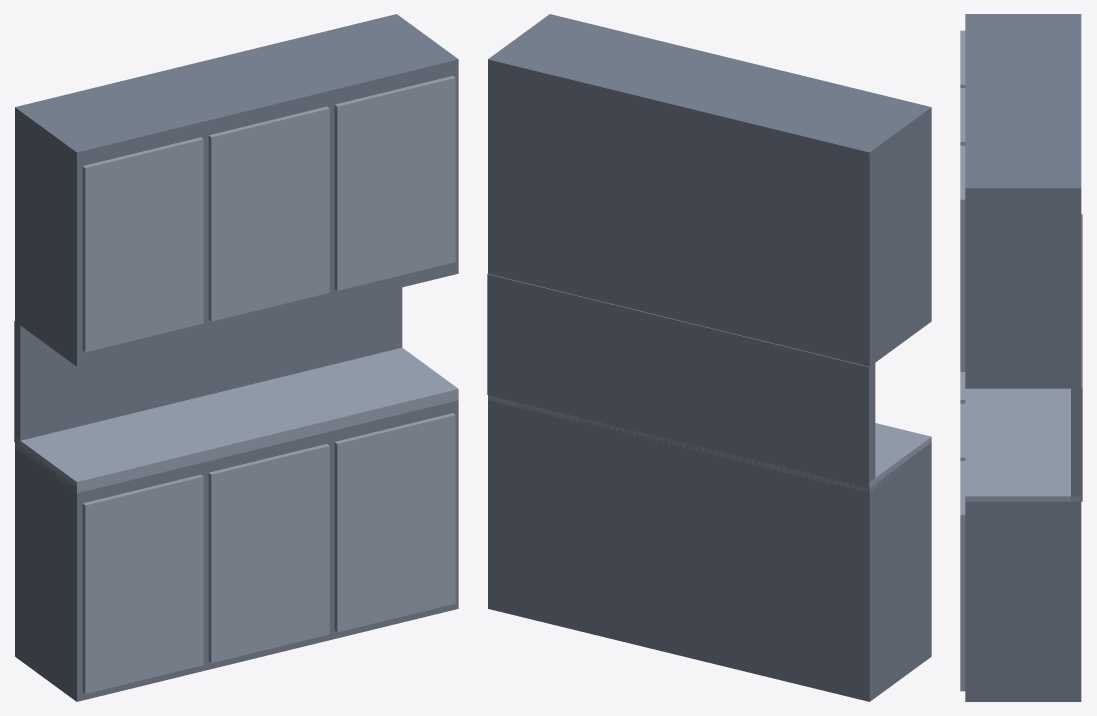
Rendered from 餐边柜.glb.
3 views of the same model, side by side, from view 1: azimuth 30°, elevation 25°; view 2: azimuth 150°, elevation 25°; view 3: azimuth 270°, elevation 25° (orthographic). The views are drawn at different scales.
Parts seen in each view (by area): view 1: sideboard; view 2: sideboard; view 3: sideboard.
Part boxes in pixels (box(x1,y1,x2,y2)): sideboard: box(14, 14, 458, 701); sideboard: box(487, 14, 931, 701); sideboard: box(960, 14, 1082, 701).
Size of the model in its own units: 1.6 by 2.2 by 0.4742.
